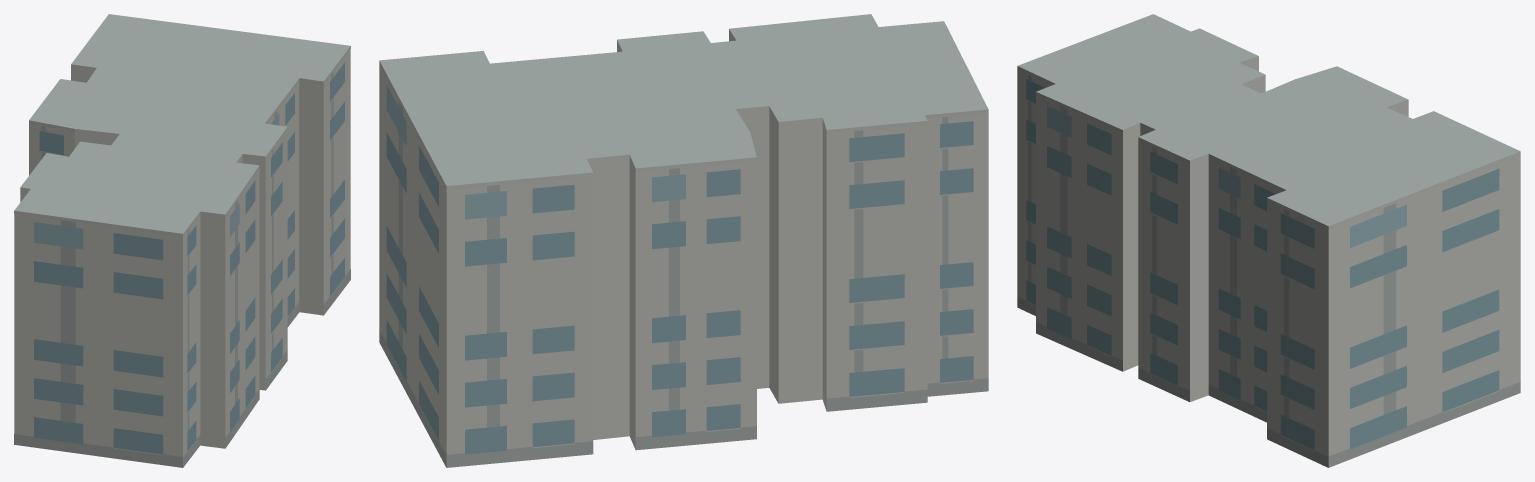
Rendered from survey-upis-32688785.glb.
The picture shows the model from 3 angles, left to right: view 1: azimuth 30°, elevation 25°; view 2: azimuth 150°, elevation 25°; view 3: azimuth 270°, elevation 25°; orthographic projection. The views are drawn at different scales.
Visible parts, largest first — view 1: survey-upis-32688785.tmp; view 2: survey-upis-32688785.tmp; view 3: survey-upis-32688785.tmp.
Boxes of the visible parts, x1,y1,x2,y2 form: survey-upis-32688785.tmp: [14, 14, 350, 467]; survey-upis-32688785.tmp: [379, 14, 988, 467]; survey-upis-32688785.tmp: [1017, 14, 1520, 467].
Size of the model in its own units: 34.77 by 18.45 by 34.84.
